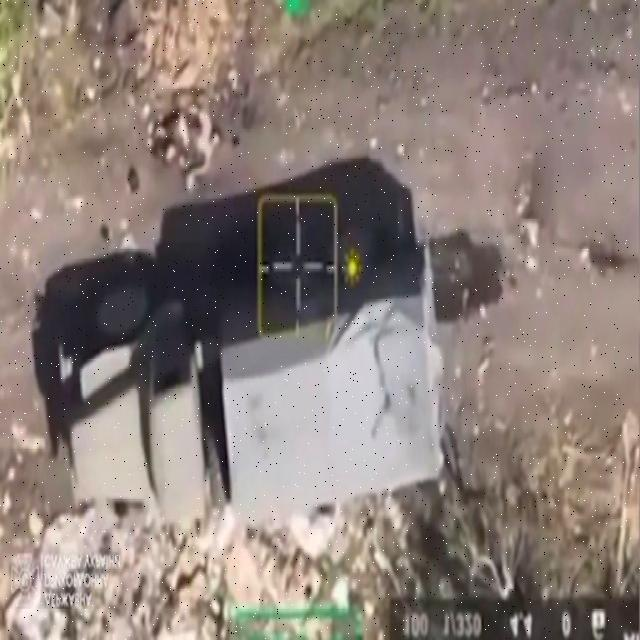TRUCK: (51, 182, 445, 548)
